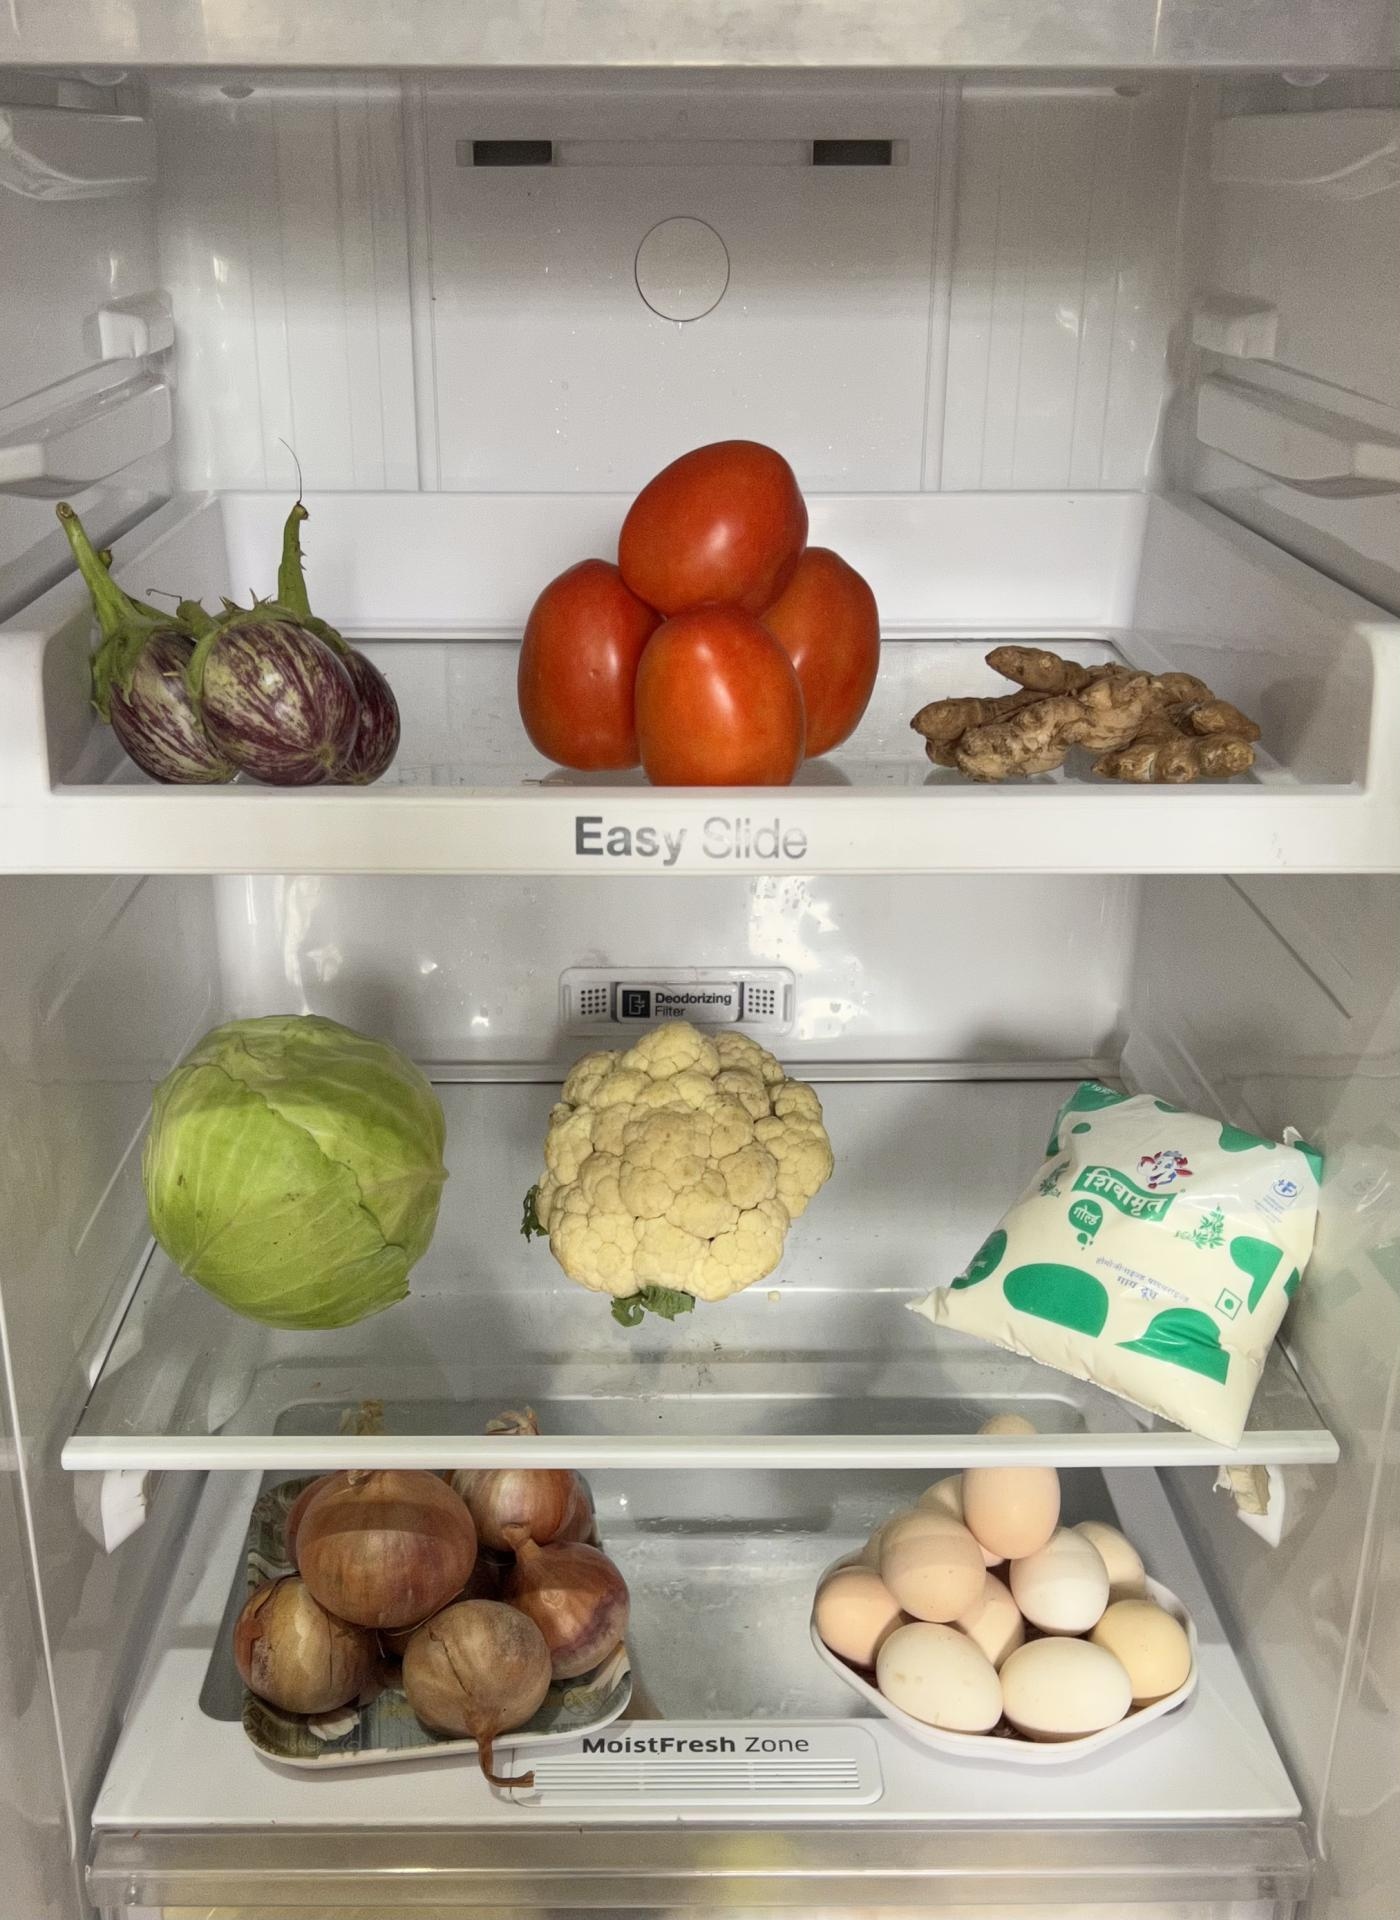cabbage: (151, 1012, 432, 1310)
cauliflower: (549, 1020, 811, 1292)
egg: (817, 1476, 1184, 1732)
ginger: (905, 642, 1276, 789)
milk: (930, 1081, 1309, 1416)
onion: (230, 1470, 634, 1737)
tomato: (517, 435, 878, 787)
